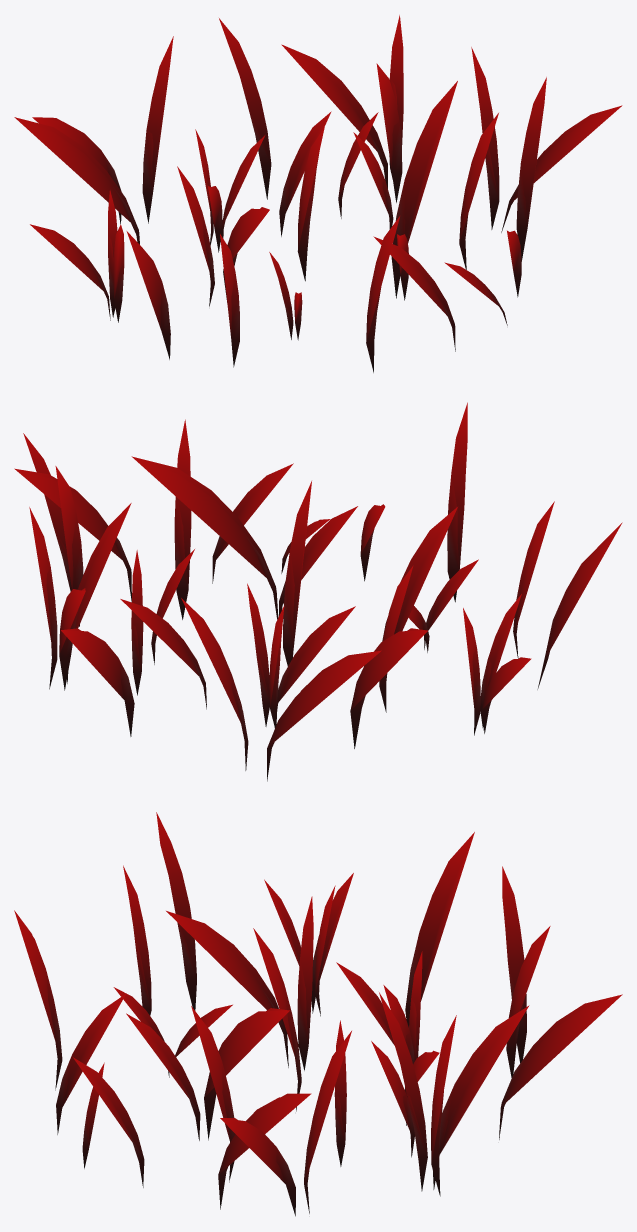
Rendered from Model_Grass.fbx.
3 views of the same model, one above another, from view 1: azimuth 30°, elevation 25°; view 2: azimuth 150°, elevation 25°; view 3: azimuth 270°, elevation 25° (orthographic). The views are drawn at different scales.
Visible parts, largest first — view 1: Grass; view 2: Grass; view 3: Grass.
Boxes of the visible parts, box(x1,y1,x2,y2) form: Grass: box(14, 15, 622, 372); Grass: box(14, 402, 622, 781); Grass: box(14, 812, 622, 1216).
Bounding box in the file's own units: 3.84 × 1.24 × 3.49.
